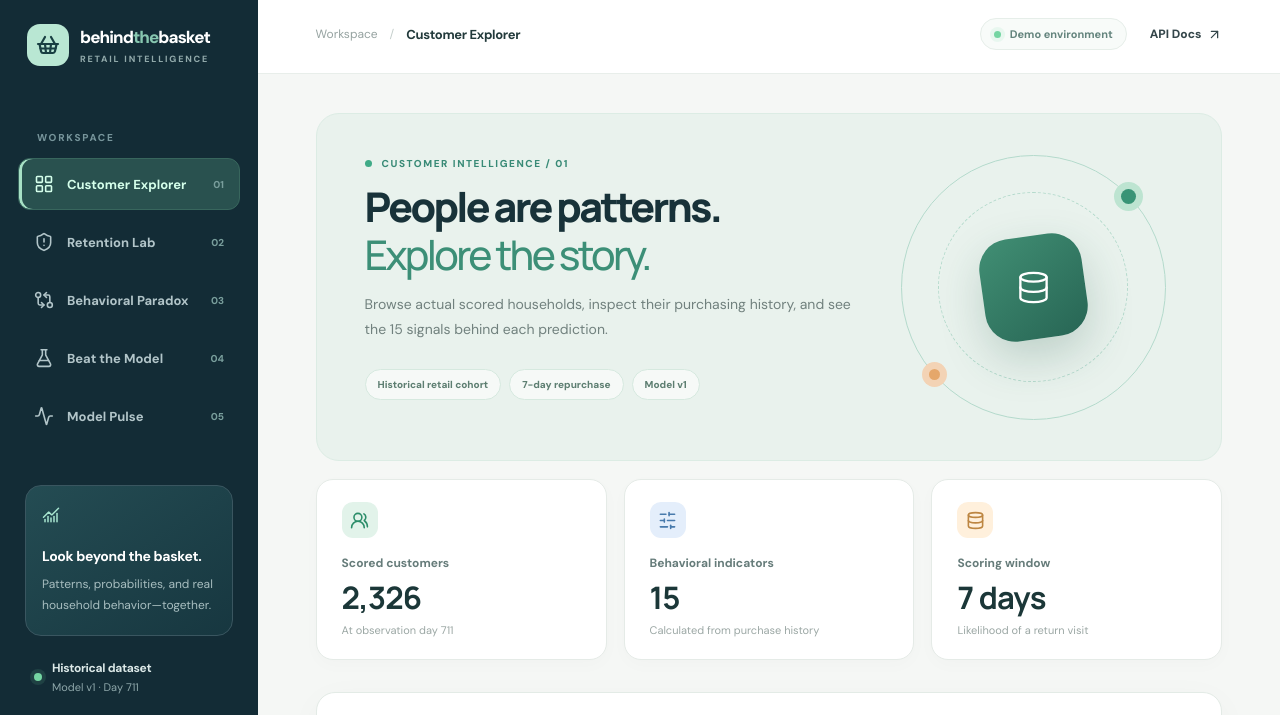
Scenario: Behind the Basket › reads monitoring and audited batch status from API
This screenshot has width=1280, height=715.
Click the button "Model Pulse 05" at x=129, y=416, box [18,390,240,442]
(page scrolled)
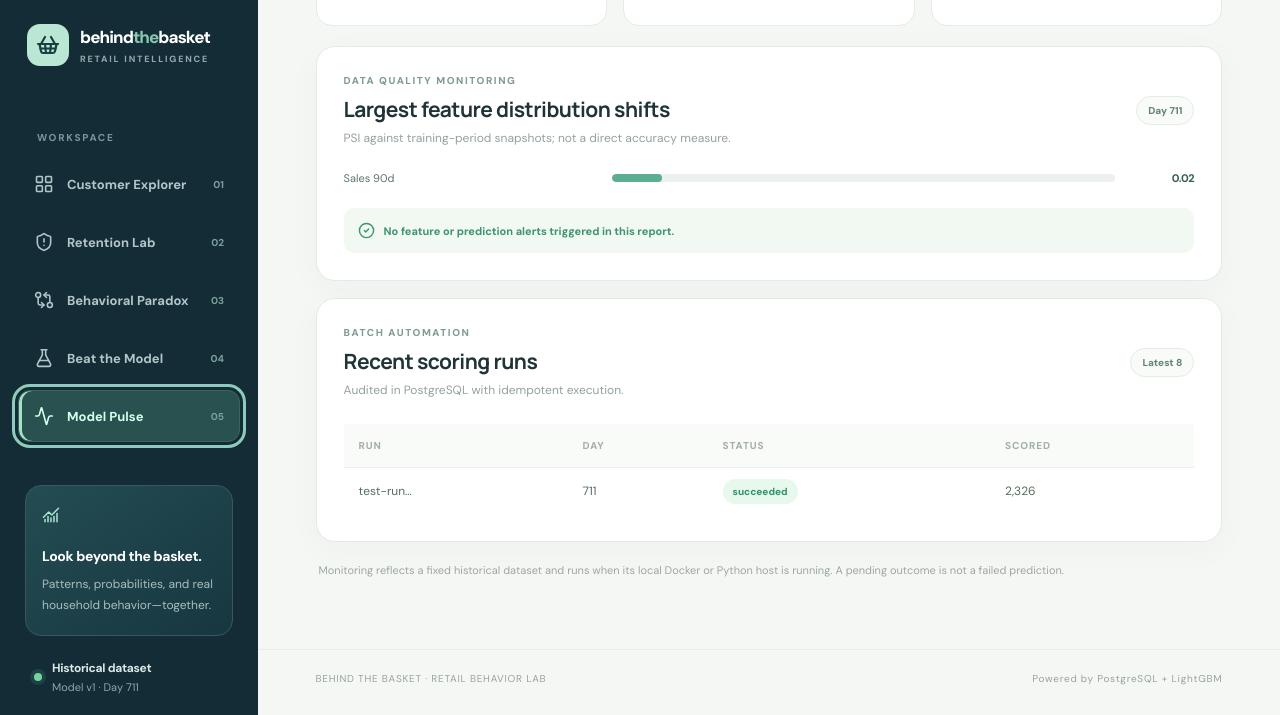
Expected: the text "succeeded" is shown, [722,479,798,504]
